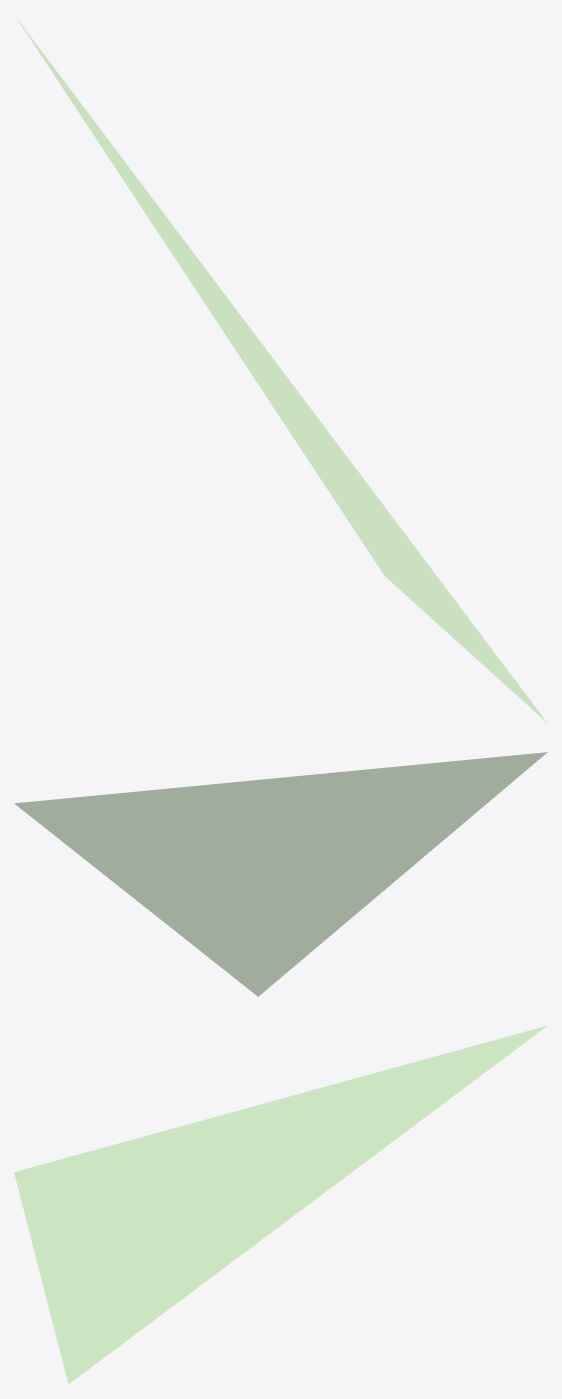
File: p_ex4c_triangulo.glb
The picture shows the model from 3 angles, top to bottom: view 1: azimuth 30°, elevation 25°; view 2: azimuth 150°, elevation 25°; view 3: azimuth 270°, elevation 25°; orthographic projection. The views are drawn at different scales.
Bounding box in the file's own units: 2.39 × 5.3 × 8.33.
